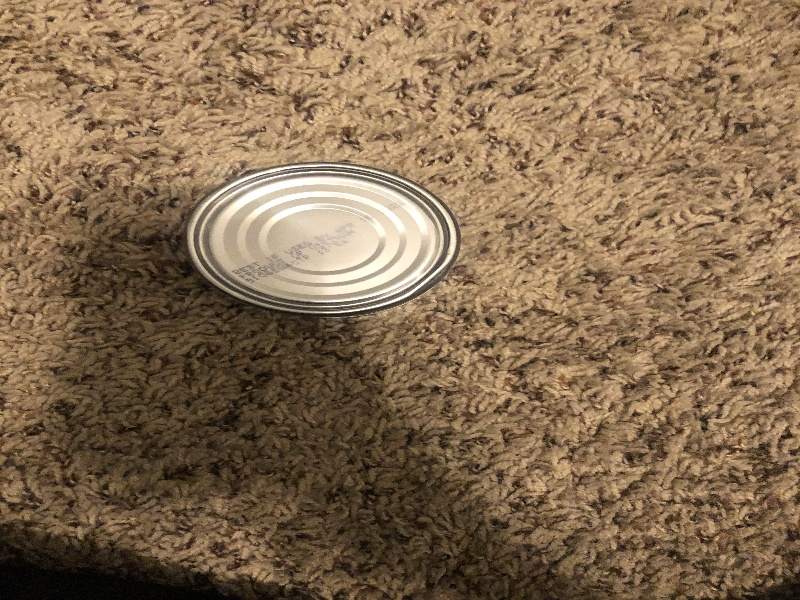metal: (186, 159, 465, 316)
